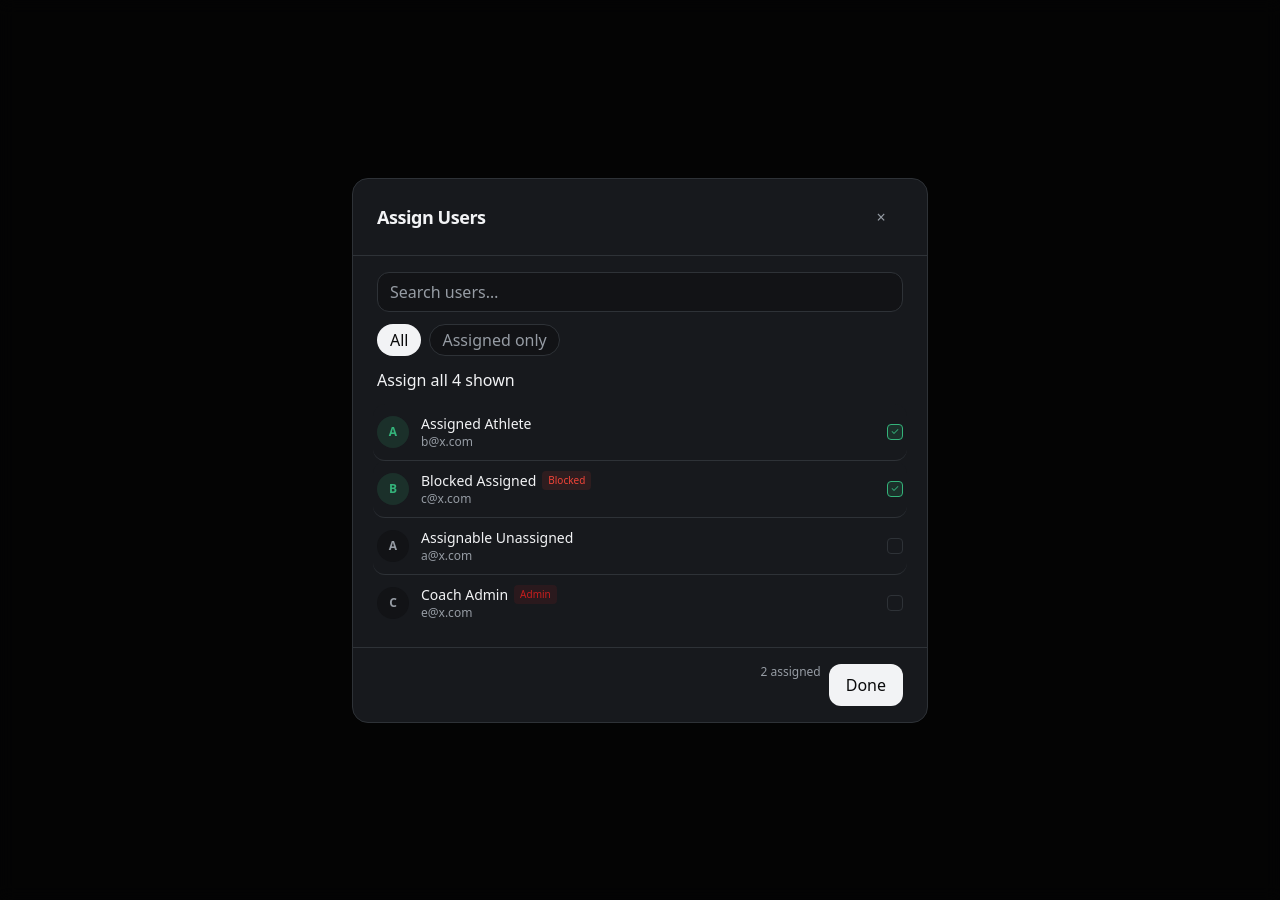
Test case: AssignUsersDialog › "Assigned only" filter still shows an assigned-but-blocked user
Click the button "Assigned only" at x=495, y=340, box [430,324,560,356]
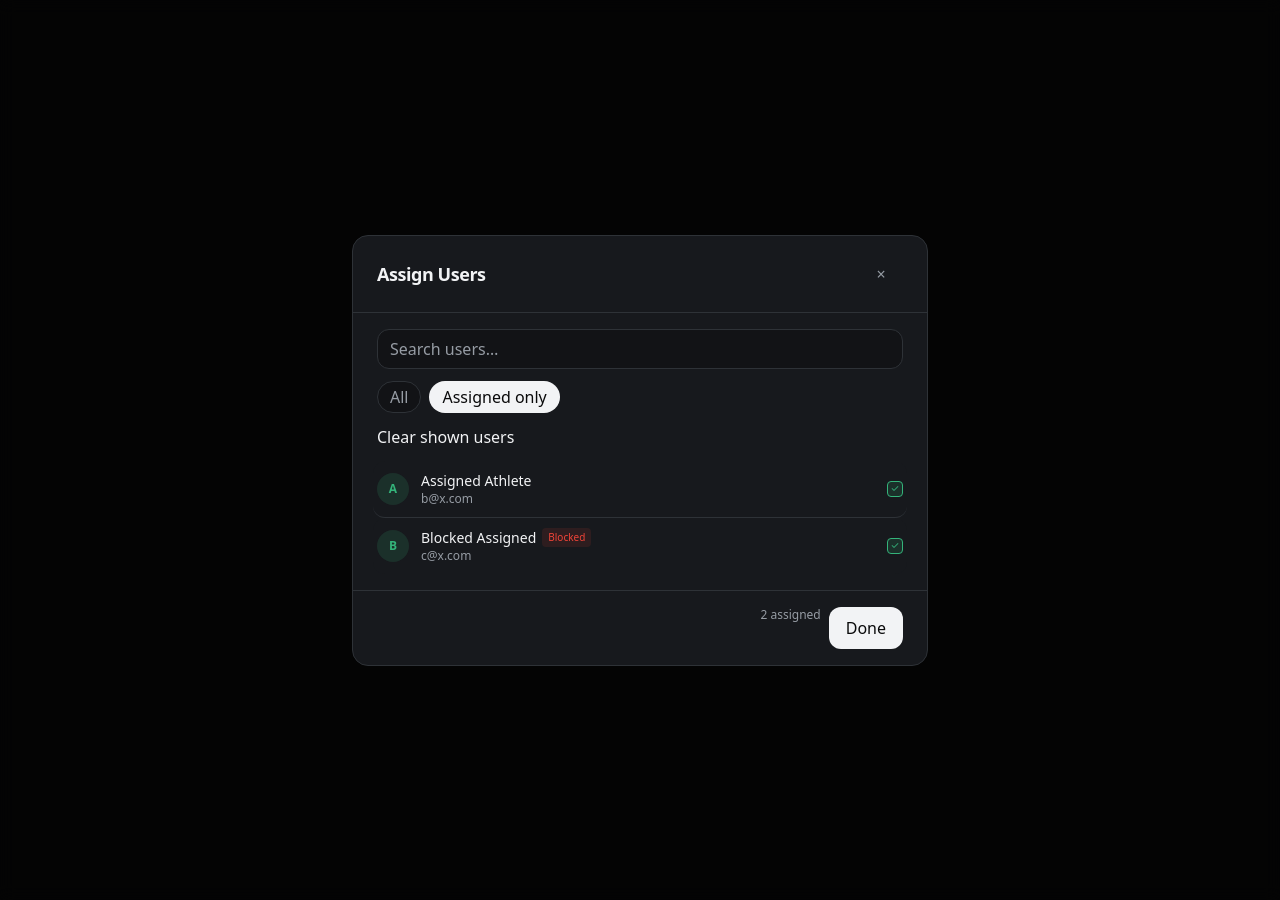
Expected: the text "Blocked Assigned" is shown, [421,528,536,548]
Expected: the text "Assignable Unassigned" is gone
